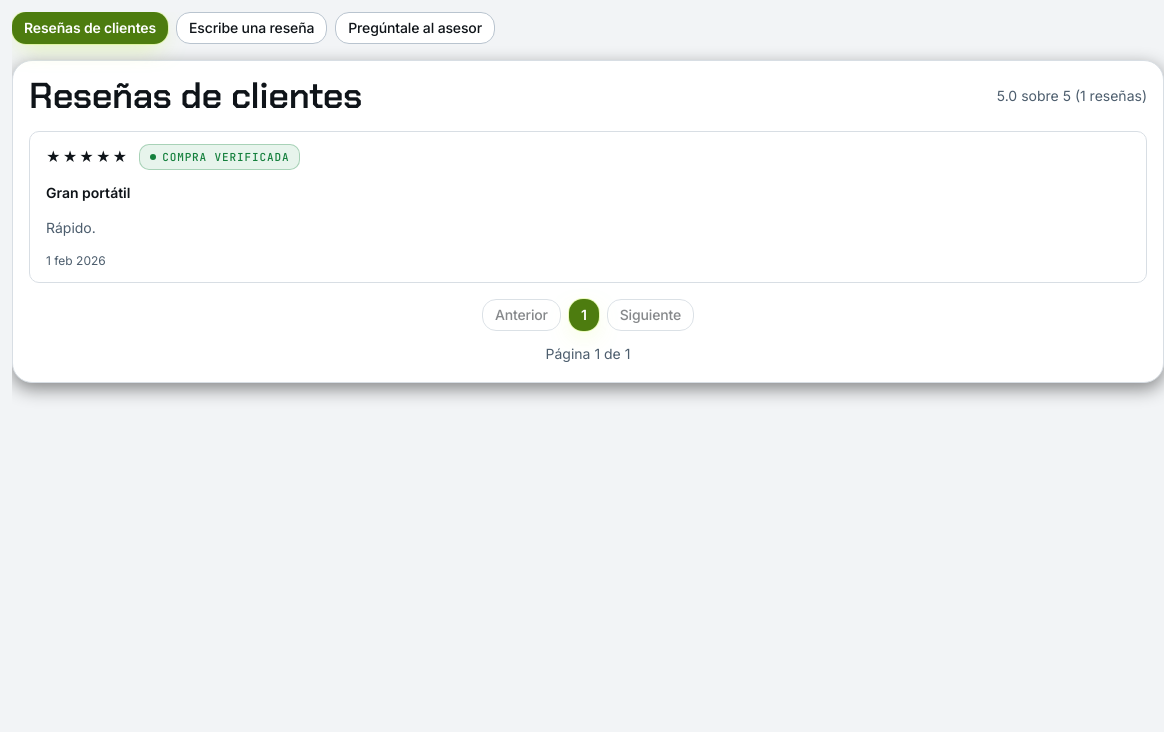
Test case: ProductDetailTabs › opens the write-review form on its tab for authenticated users
Expected: the text "Gran portátil" is shown, x1=46 y1=184 x2=130 y2=201
Click the tab "Escribe una reseña" at (252, 28), box x1=176 y1=12 x2=327 y2=44
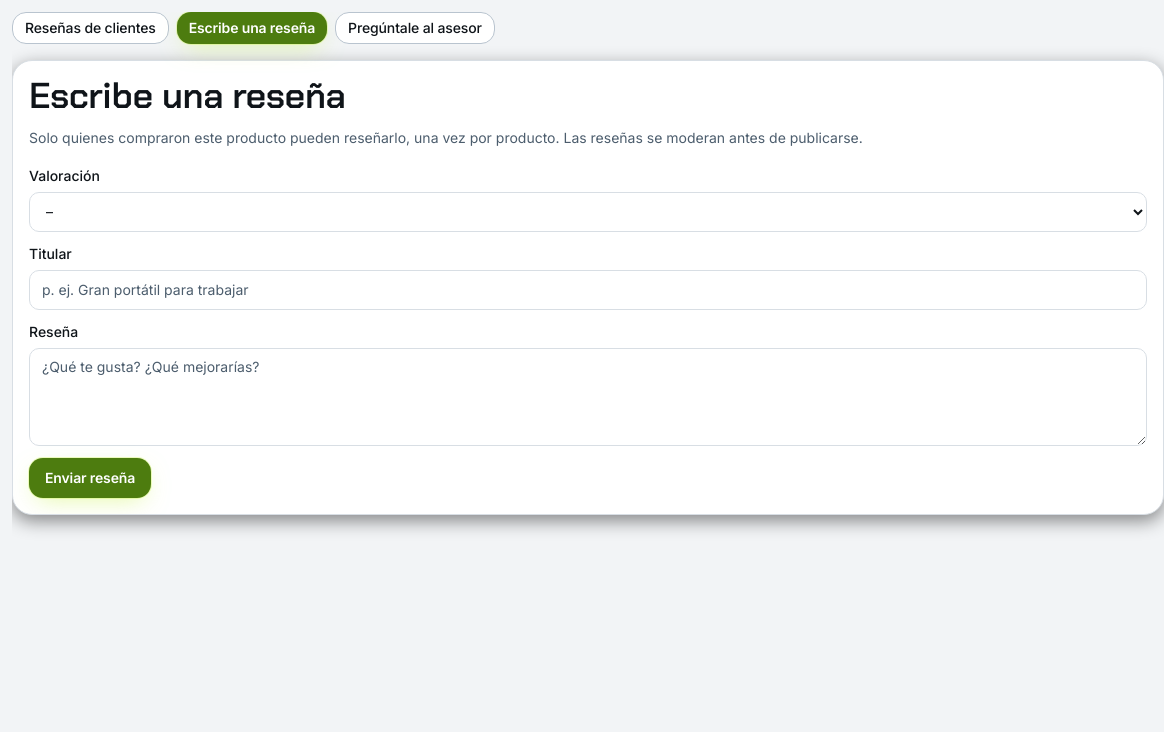
Expected: the dropdown labelled "Valoración" is shown, x1=29 y1=192 x2=1147 y2=232
